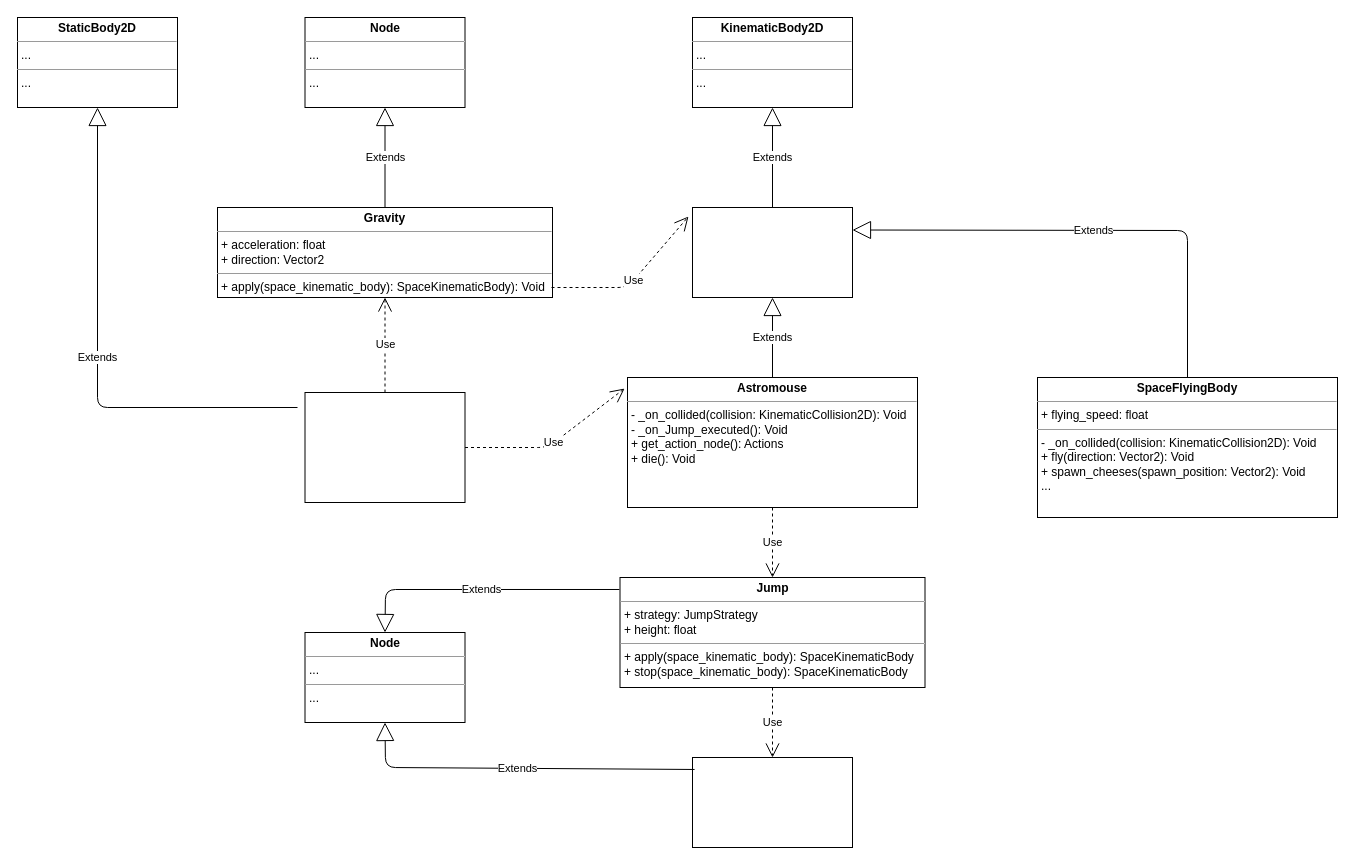
Some shapes in this 1355 by 865 pixel diagram are drawn without their labels. The centre of each missing label's shape, as x and y in pixels:
"GravityBody - _gravity: Gravity + astromouse: Astromouse + pulse(): Void ..." belongs at (x=384, y=447).
"JumpStrategy - direction: Vector2 + get_direction(): Vector2" belongs at (x=772, y=802).
"SpaceKinematicBody + velocity: Vector2 + stop(): Void" belongs at (x=772, y=252).
